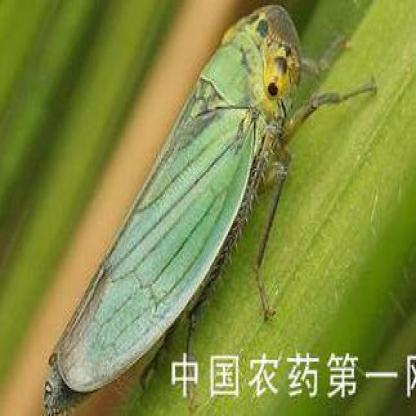Green-Leafhopper: (42, 1, 380, 413)
